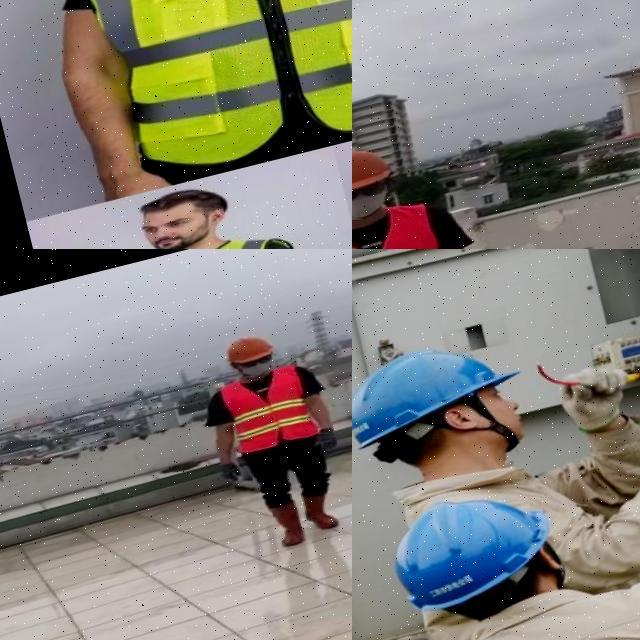boots: (264, 496, 310, 550), (296, 486, 344, 534)
helmet: (370, 470, 574, 626), (352, 315, 541, 458), (216, 328, 280, 370), (352, 139, 396, 199)
vest: (67, 0, 352, 178), (218, 361, 318, 457), (352, 199, 460, 249)
